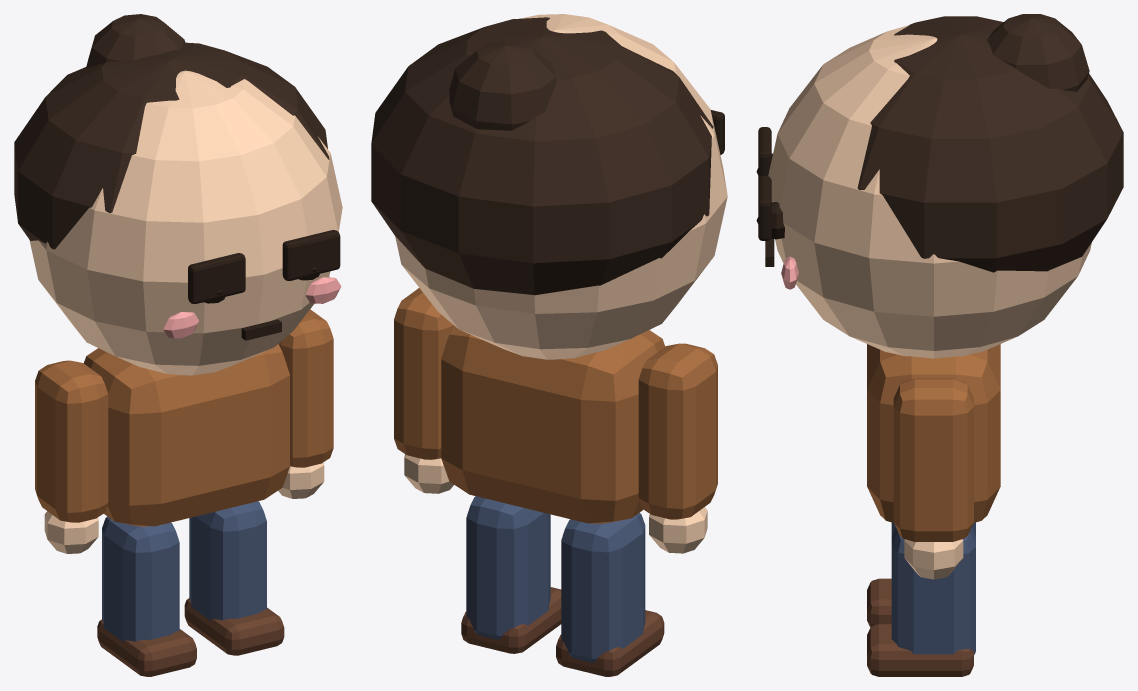
File: kar_penjaga_perpus.fbx
The picture shows the model from 3 angles, left to right: view 1: azimuth 30°, elevation 25°; view 2: azimuth 150°, elevation 25°; view 3: azimuth 270°, elevation 25°; orthographic projection. The views are drawn at different scales.
Parts seen in each view (by area): view 1: kar_penjaga_perpus; view 2: kar_penjaga_perpus; view 3: kar_penjaga_perpus.
Part boxes in pixels (x1,y1,x2,y2): kar_penjaga_perpus: (14,14,342,676); kar_penjaga_perpus: (371,14,727,676); kar_penjaga_perpus: (756,14,1123,676).
Size of the model in its own units: 76 by 155 by 82.44.
1 material, 1 textured.
